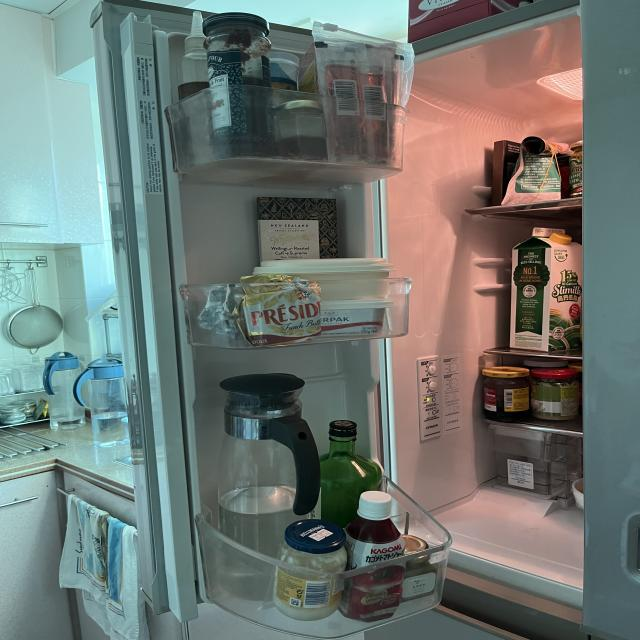Leche: (510, 232, 580, 353)
Mantequilla: (239, 282, 321, 349), (314, 298, 393, 340)
mayonaise: (270, 519, 338, 619)
